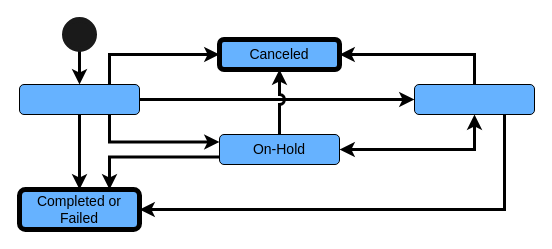
The diagram is 552 pixels wide and 249 high, and some of its shapes have lost their labels. Here are the shapes that lost their labels. From the top down, the centre of each, then its label:
point 79,99: Ready
point 474,99: In Progress
